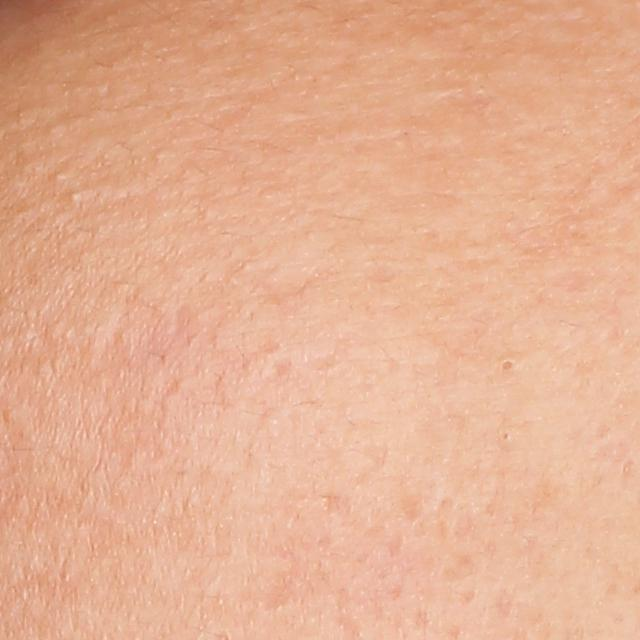comedo: (495, 355, 521, 374), (59, 187, 82, 208), (496, 428, 514, 442)
